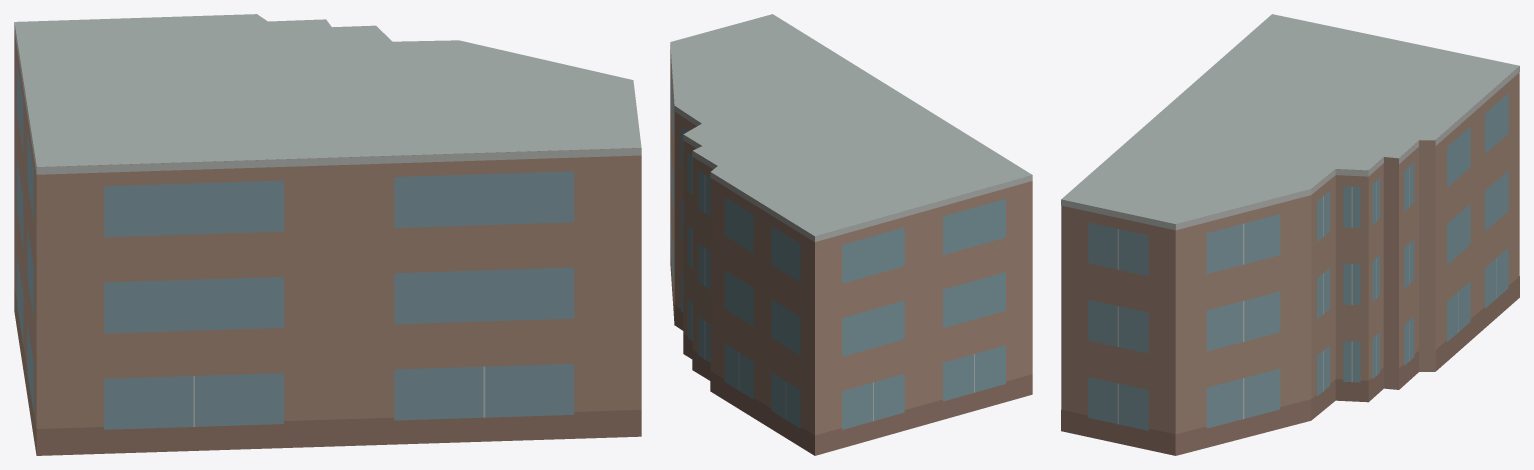
The model's file is survey-upis-32512354.glb.
The picture shows the model from 3 angles, left to right: view 1: azimuth 30°, elevation 25°; view 2: azimuth 150°, elevation 25°; view 3: azimuth 270°, elevation 25°; orthographic projection. The views are drawn at different scales.
Parts seen in each view (by area): view 1: survey-upis-32512354.tmp; view 2: survey-upis-32512354.tmp; view 3: survey-upis-32512354.tmp.
Boxes of the visible parts, x1,y1,x2,y2 form: survey-upis-32512354.tmp: (14,14,641,455); survey-upis-32512354.tmp: (670,14,1032,455); survey-upis-32512354.tmp: (1061,14,1519,455).
Bounding box in the file's own units: 17.81 × 9.15 × 16.43.
